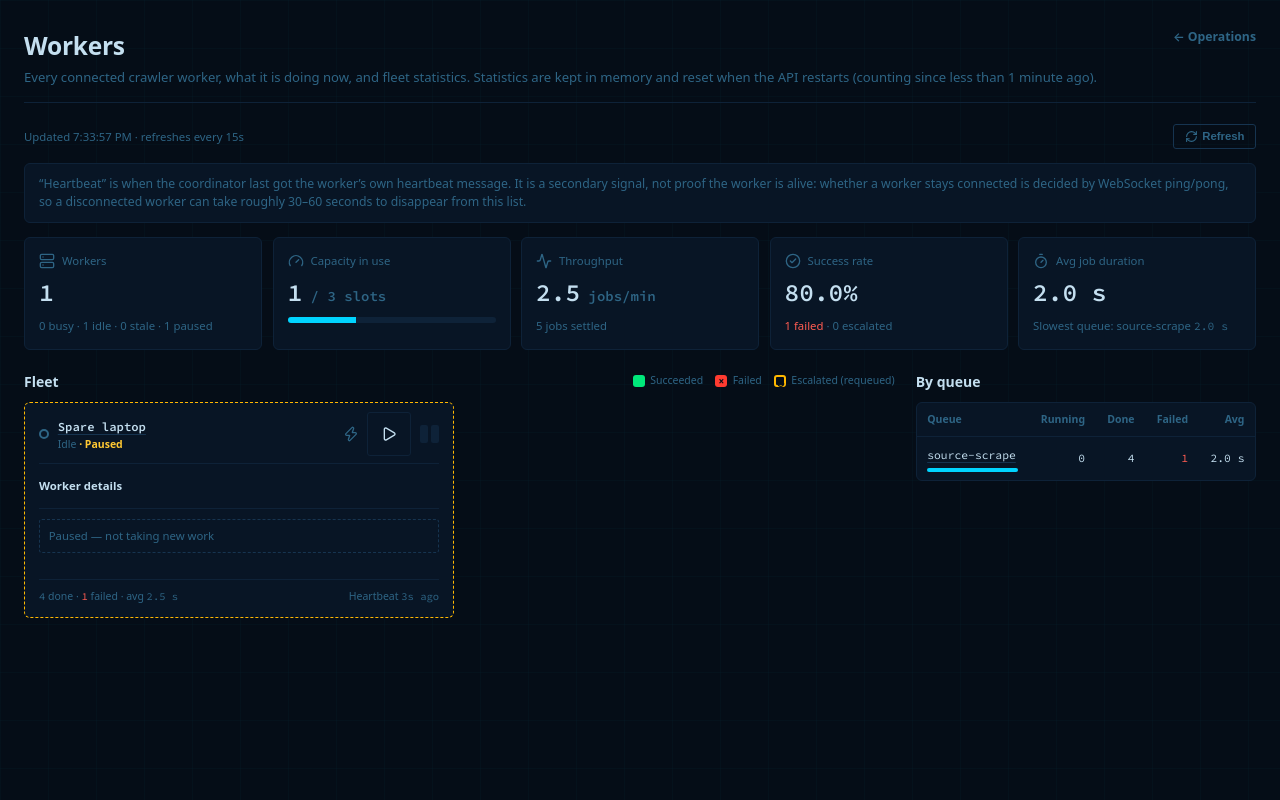
it: WorkersClient › reports a stale connection when resume returns 404
The image size is (1280, 800).
Click the button named "Resume Spare laptop": (389, 434) x1=367 y1=412 x2=411 y2=456
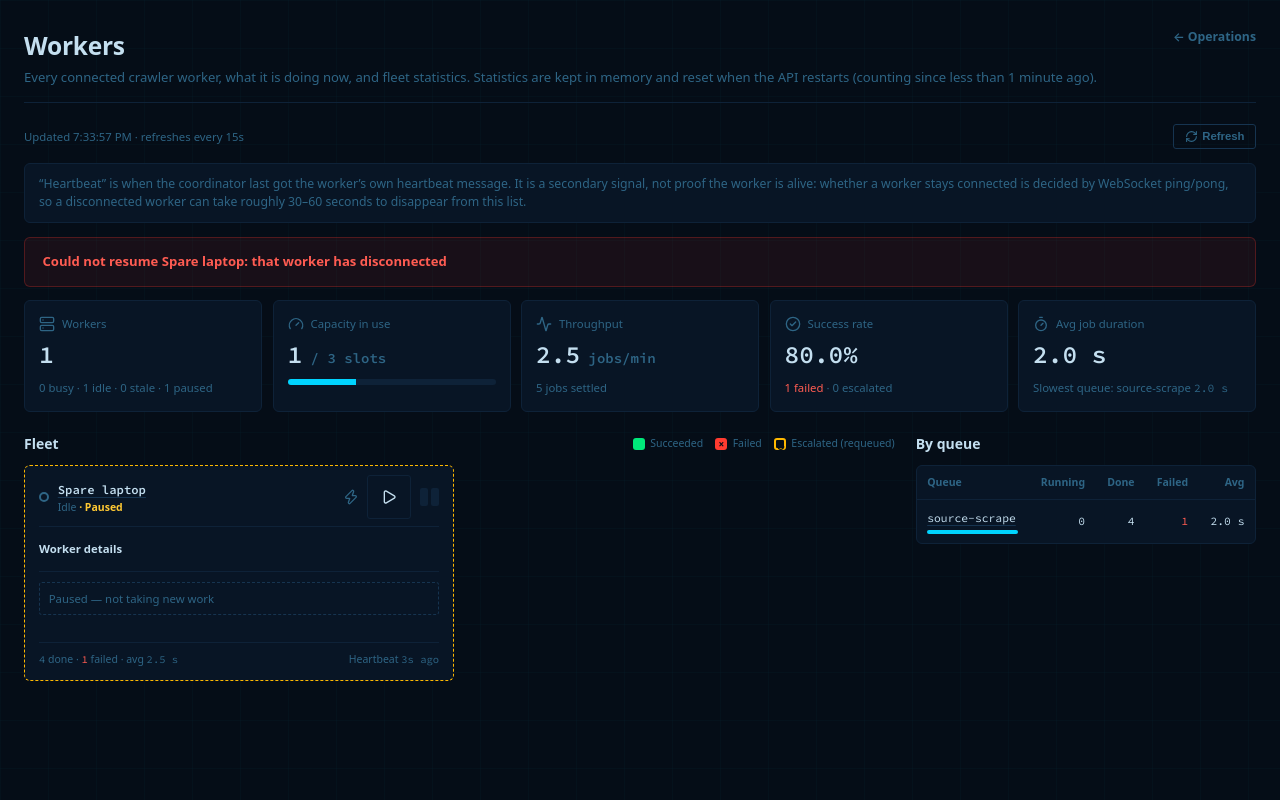
Now the message reads "Could not resume Spare laptop: that worker has disconnected", box x1=42 y1=252 x2=447 y2=270
